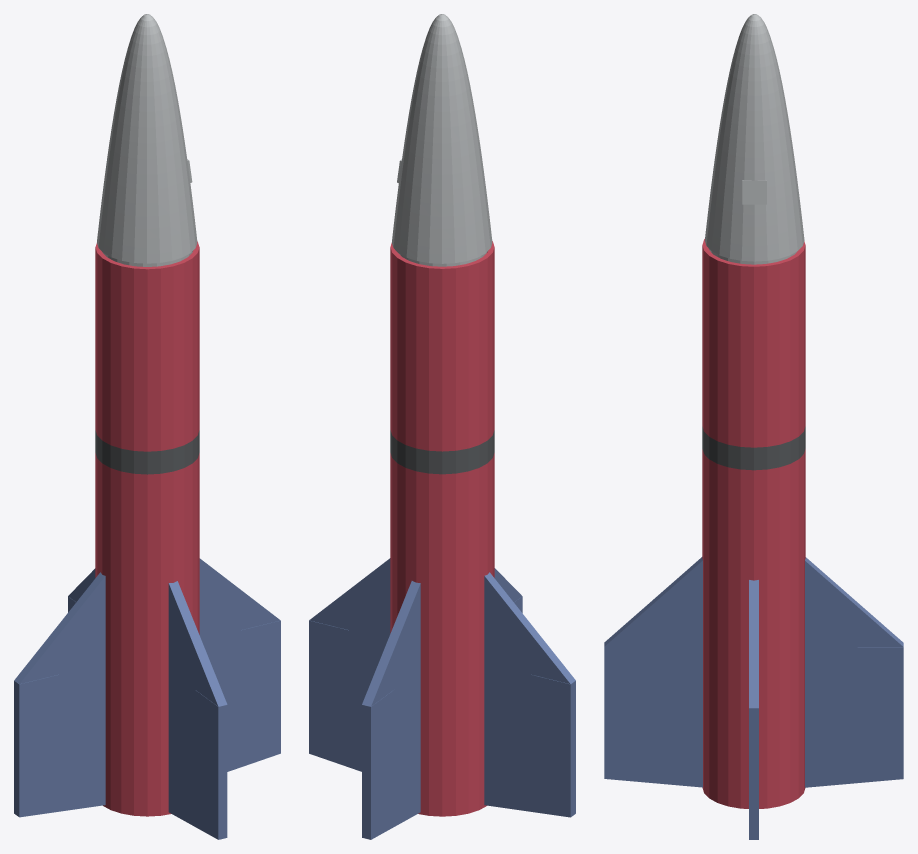
The model's file is rocket.glb.
3 views of the same model, side by side, from view 1: azimuth 30°, elevation 25°; view 2: azimuth 150°, elevation 25°; view 3: azimuth 270°, elevation 25° (orthographic).
Parts seen in each view (by area): view 1: Mesh_Mesh_head_geo.001_lambert2SG.001; view 2: Mesh_Mesh_head_geo.001_lambert2SG.001; view 3: Mesh_Mesh_head_geo.001_lambert2SG.001.
Part boxes in pixels (box(x1,y1,x2,y2)): Mesh_Mesh_head_geo.001_lambert2SG.001: box(14, 14, 280, 839); Mesh_Mesh_head_geo.001_lambert2SG.001: box(309, 14, 575, 839); Mesh_Mesh_head_geo.001_lambert2SG.001: box(604, 14, 903, 839).
Size of the model in its own units: 60 by 171 by 60.
